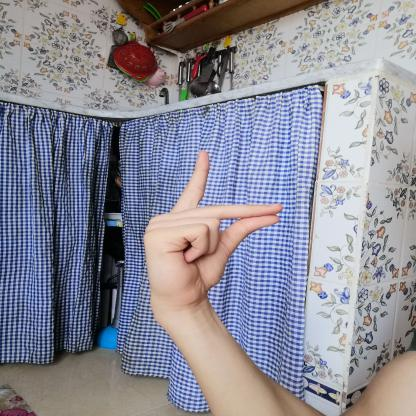TAA: (131, 144, 292, 318)
